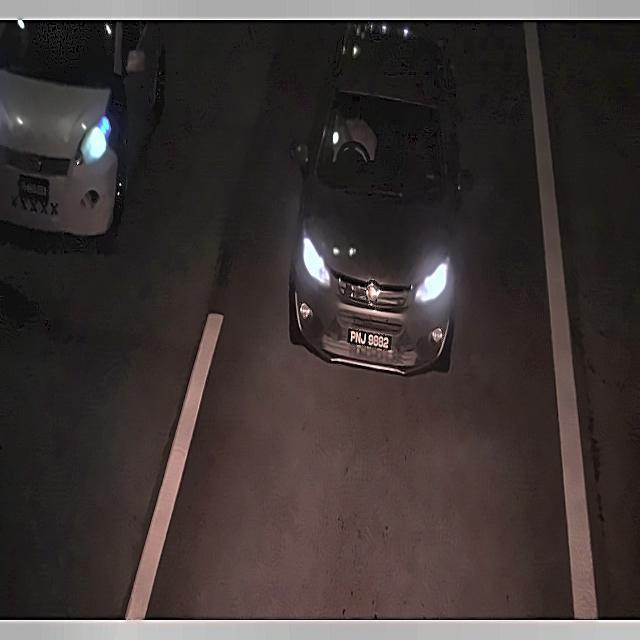car: (346, 319, 395, 361), (14, 168, 58, 210)
